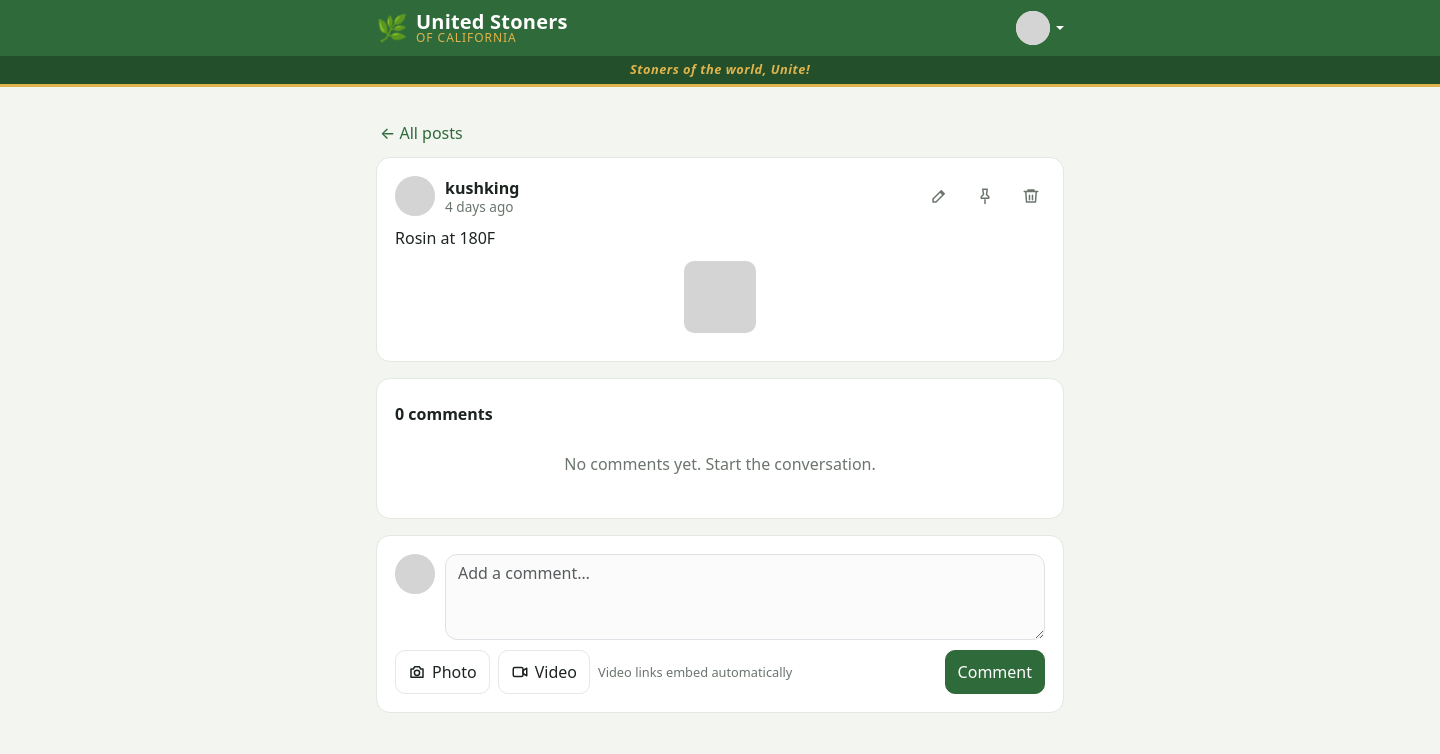
Test case: editing posts › the superuser can change the text and drop a photo
Click the button named "Edit" at (939, 196), box [917, 174, 961, 218]
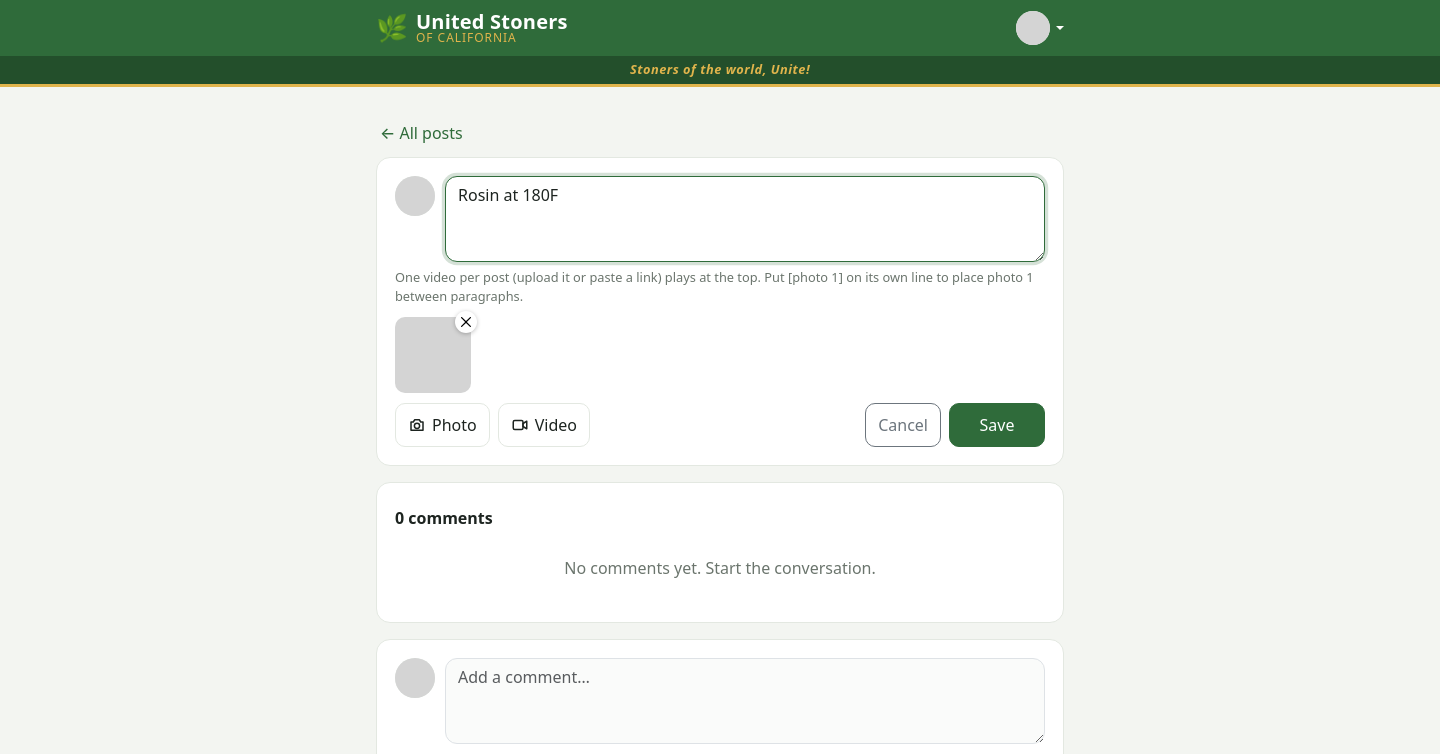
Check: the text box with placeholder "Edit the post…" holds "Rosin at 180F"
Replace the text in the text box with placeholder "Edit the post…" with "Rosin at 190F" at (745, 219), box [445, 176, 1045, 262]
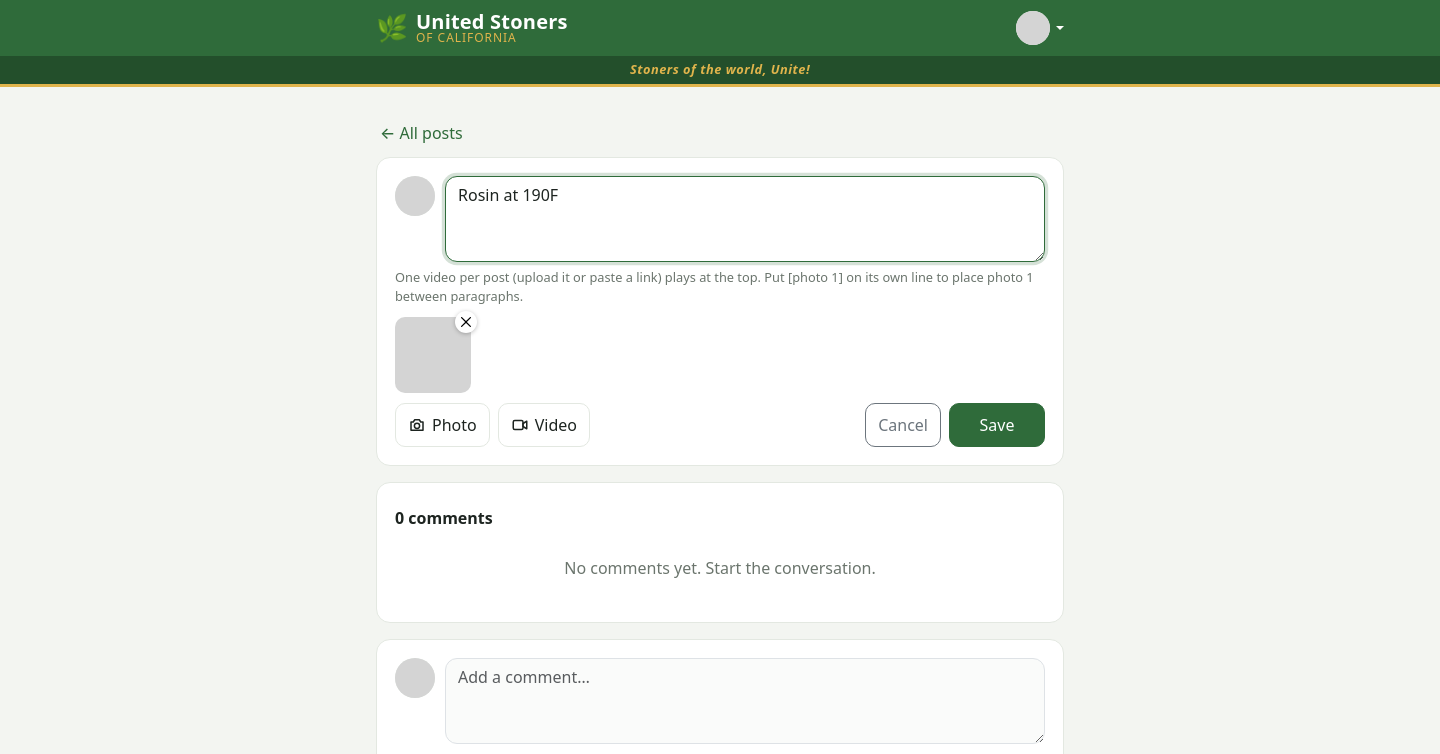
Click the button named "Remove photo 1" at (466, 322), box [455, 311, 477, 333]
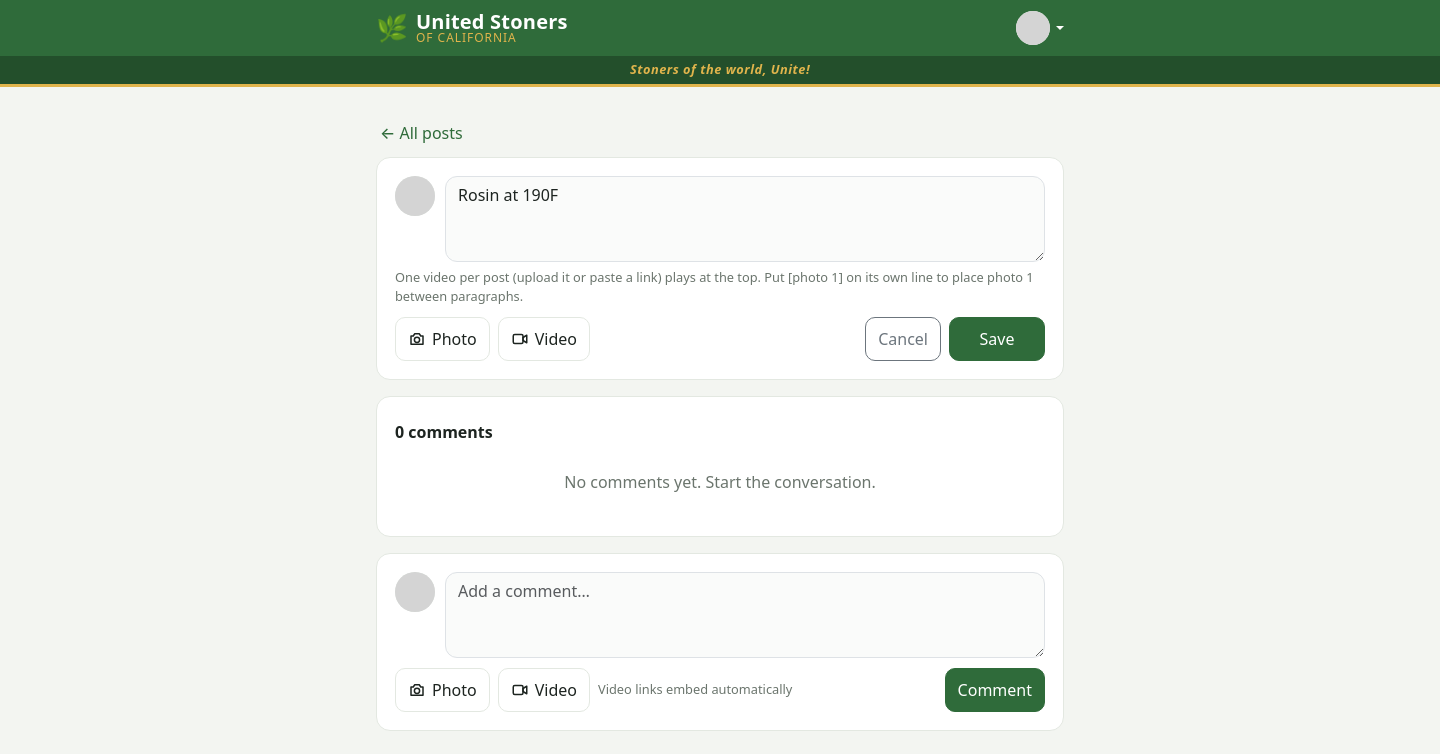
Click the button "Save" at (997, 339), box [949, 317, 1045, 361]
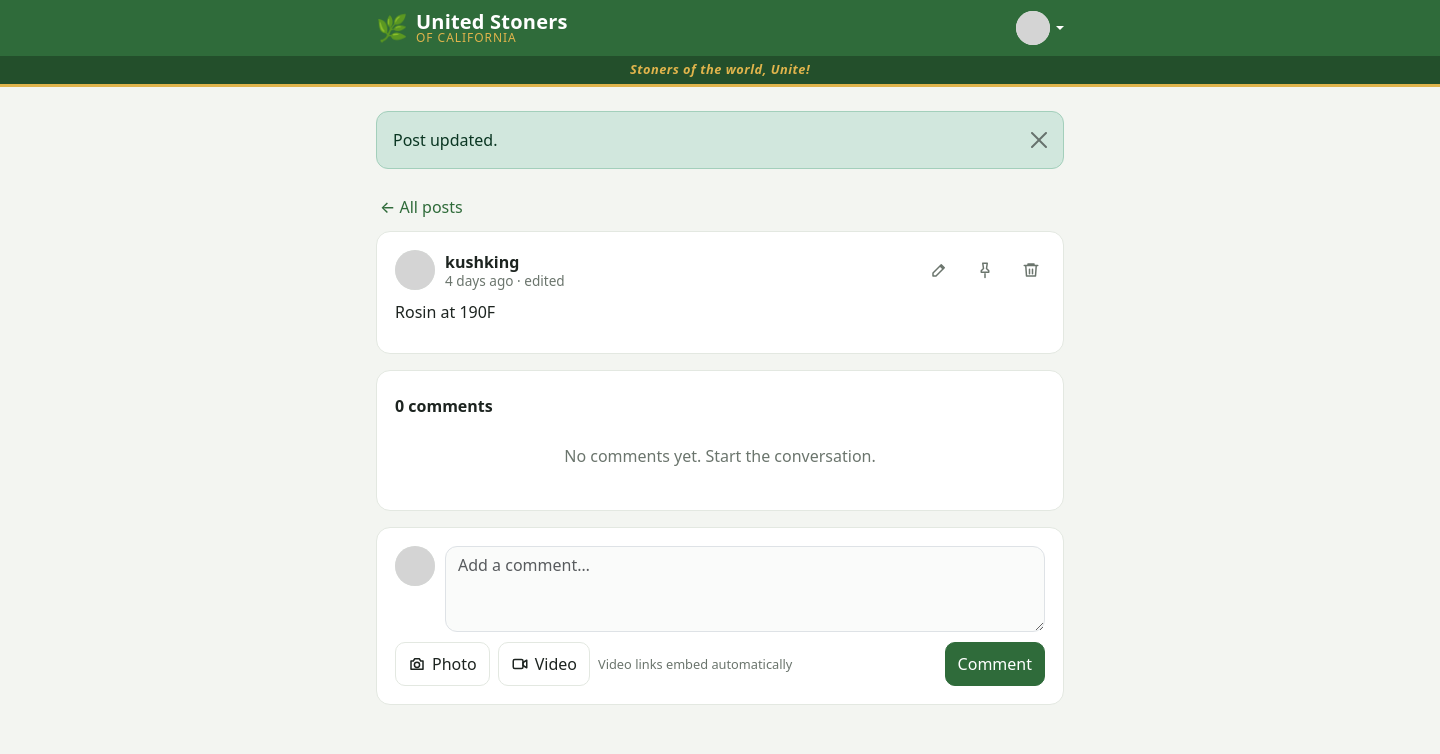
Check: the text "· edited" is shown, box [514, 271, 565, 290]
Check: the text "photo 1" is gone
